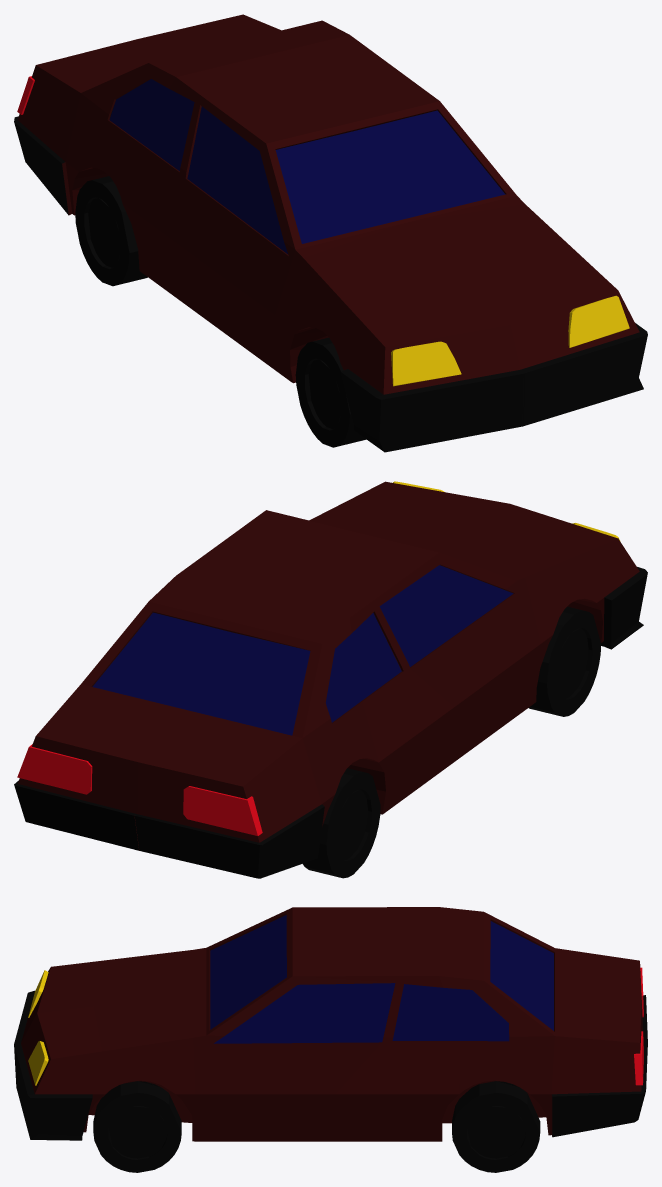
File: monza.fbx
3 renders of one model, top to bottom at view 1: azimuth 30°, elevation 25°; view 2: azimuth 150°, elevation 25°; view 3: azimuth 270°, elevation 25°, orthographic. The views are drawn at different scales.
Parts seen in each view (by area): view 1: Cube, Janelas, Parachoques, RR, FR, Farois; view 2: Cube, Janelas, Parachoques, FR, RR, Lanternas; view 3: Cube, Janelas, Parachoques, RL, FL, Farois, Lanternas.
Boxes of the visible parts, bbox=[...] form: Cube: bbox=[17, 14, 639, 394]; Janelas: bbox=[109, 79, 505, 254]; Parachoques: bbox=[14, 107, 647, 452]; RR: bbox=[75, 176, 147, 286]; FR: bbox=[295, 337, 366, 447]; Farois: bbox=[391, 295, 629, 386]; Cube: bbox=[17, 481, 639, 850]; Janelas: bbox=[92, 565, 513, 735]; Parachoques: bbox=[14, 567, 647, 878]; FR: bbox=[529, 606, 601, 716]; RR: bbox=[303, 768, 380, 878]; Lanternas: bbox=[17, 744, 262, 835]; Cube: bbox=[21, 907, 642, 1141]; Janelas: bbox=[210, 915, 553, 1043]; Parachoques: bbox=[14, 990, 647, 1140]; RL: bbox=[452, 1081, 540, 1172]; FL: bbox=[93, 1081, 181, 1172]; Farois: bbox=[28, 970, 48, 1085]; Lanternas: bbox=[634, 967, 643, 1085].
Size of the model in its own units: 726 by 567 by 1810.
